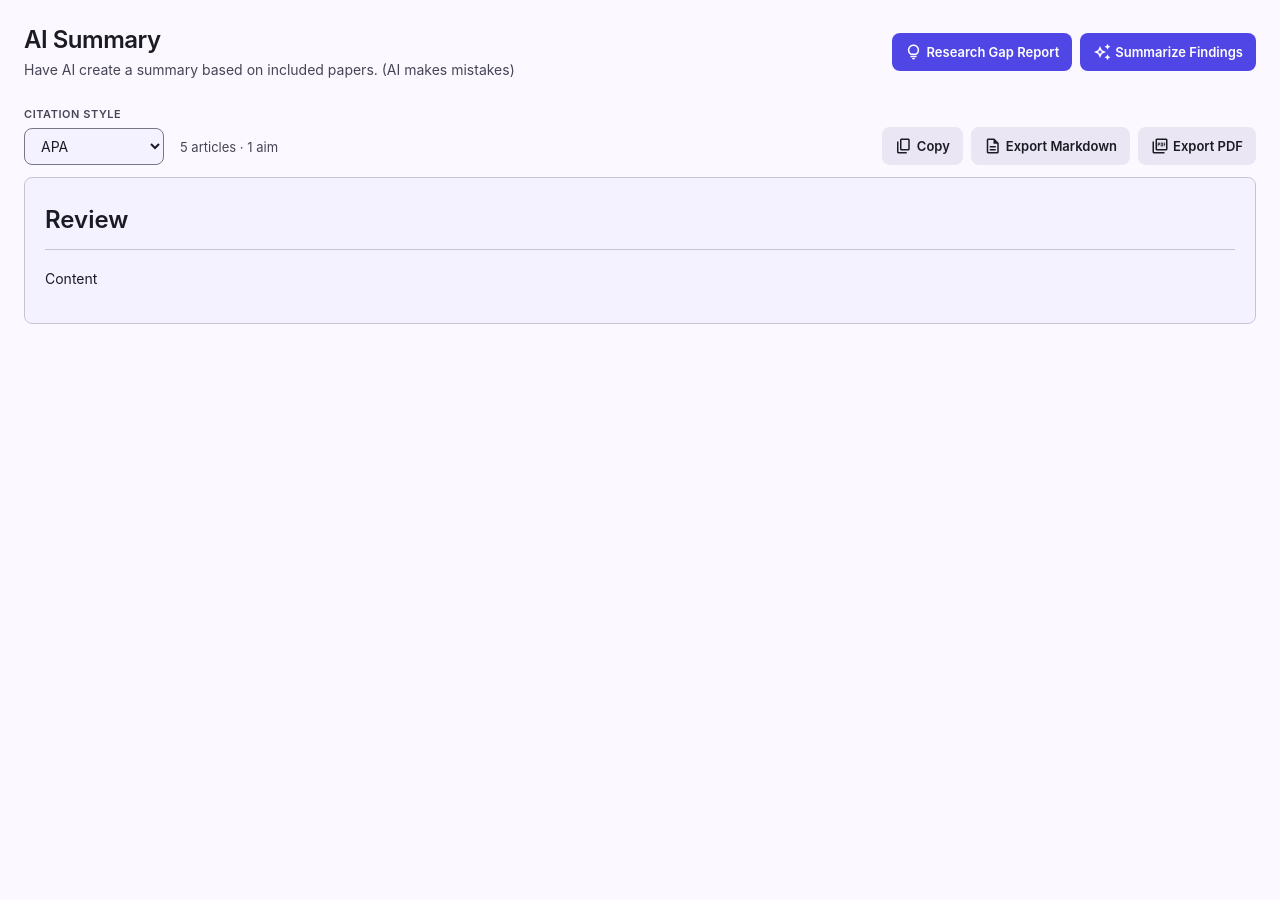
it: summary-view.vue - two-button UX with switch-vs-regenerate dialog › existing content + clicking generate opens the switch dialog (no generate yet)
Click the button "Research Gap Report". click: (982, 52)
box: [892,33,1072,71]
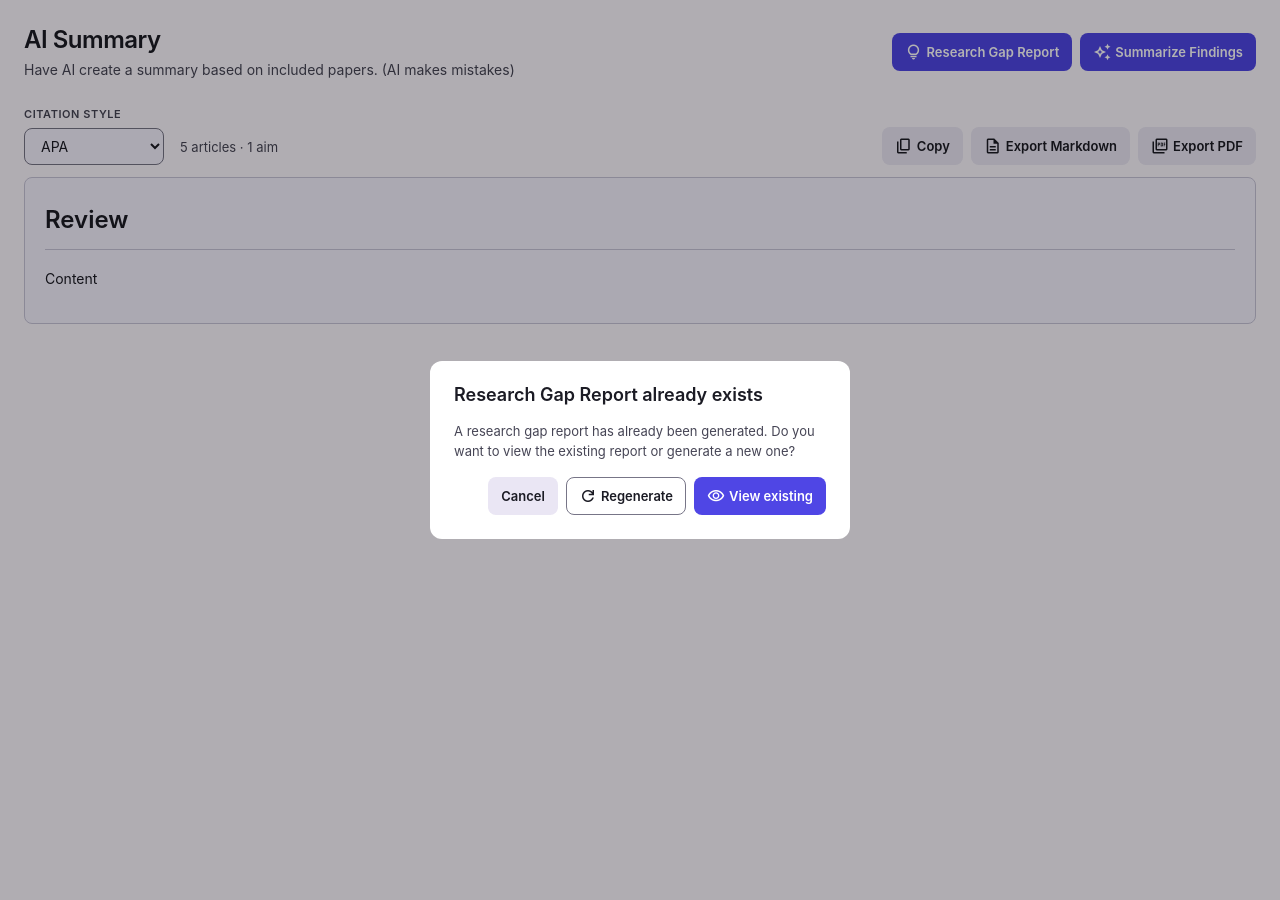
expect the element with class "dialog-overlay" is shown: met
expect the element with class "dialog" shows "Research Gap Report already exists": met, box [454,384,763,405]
